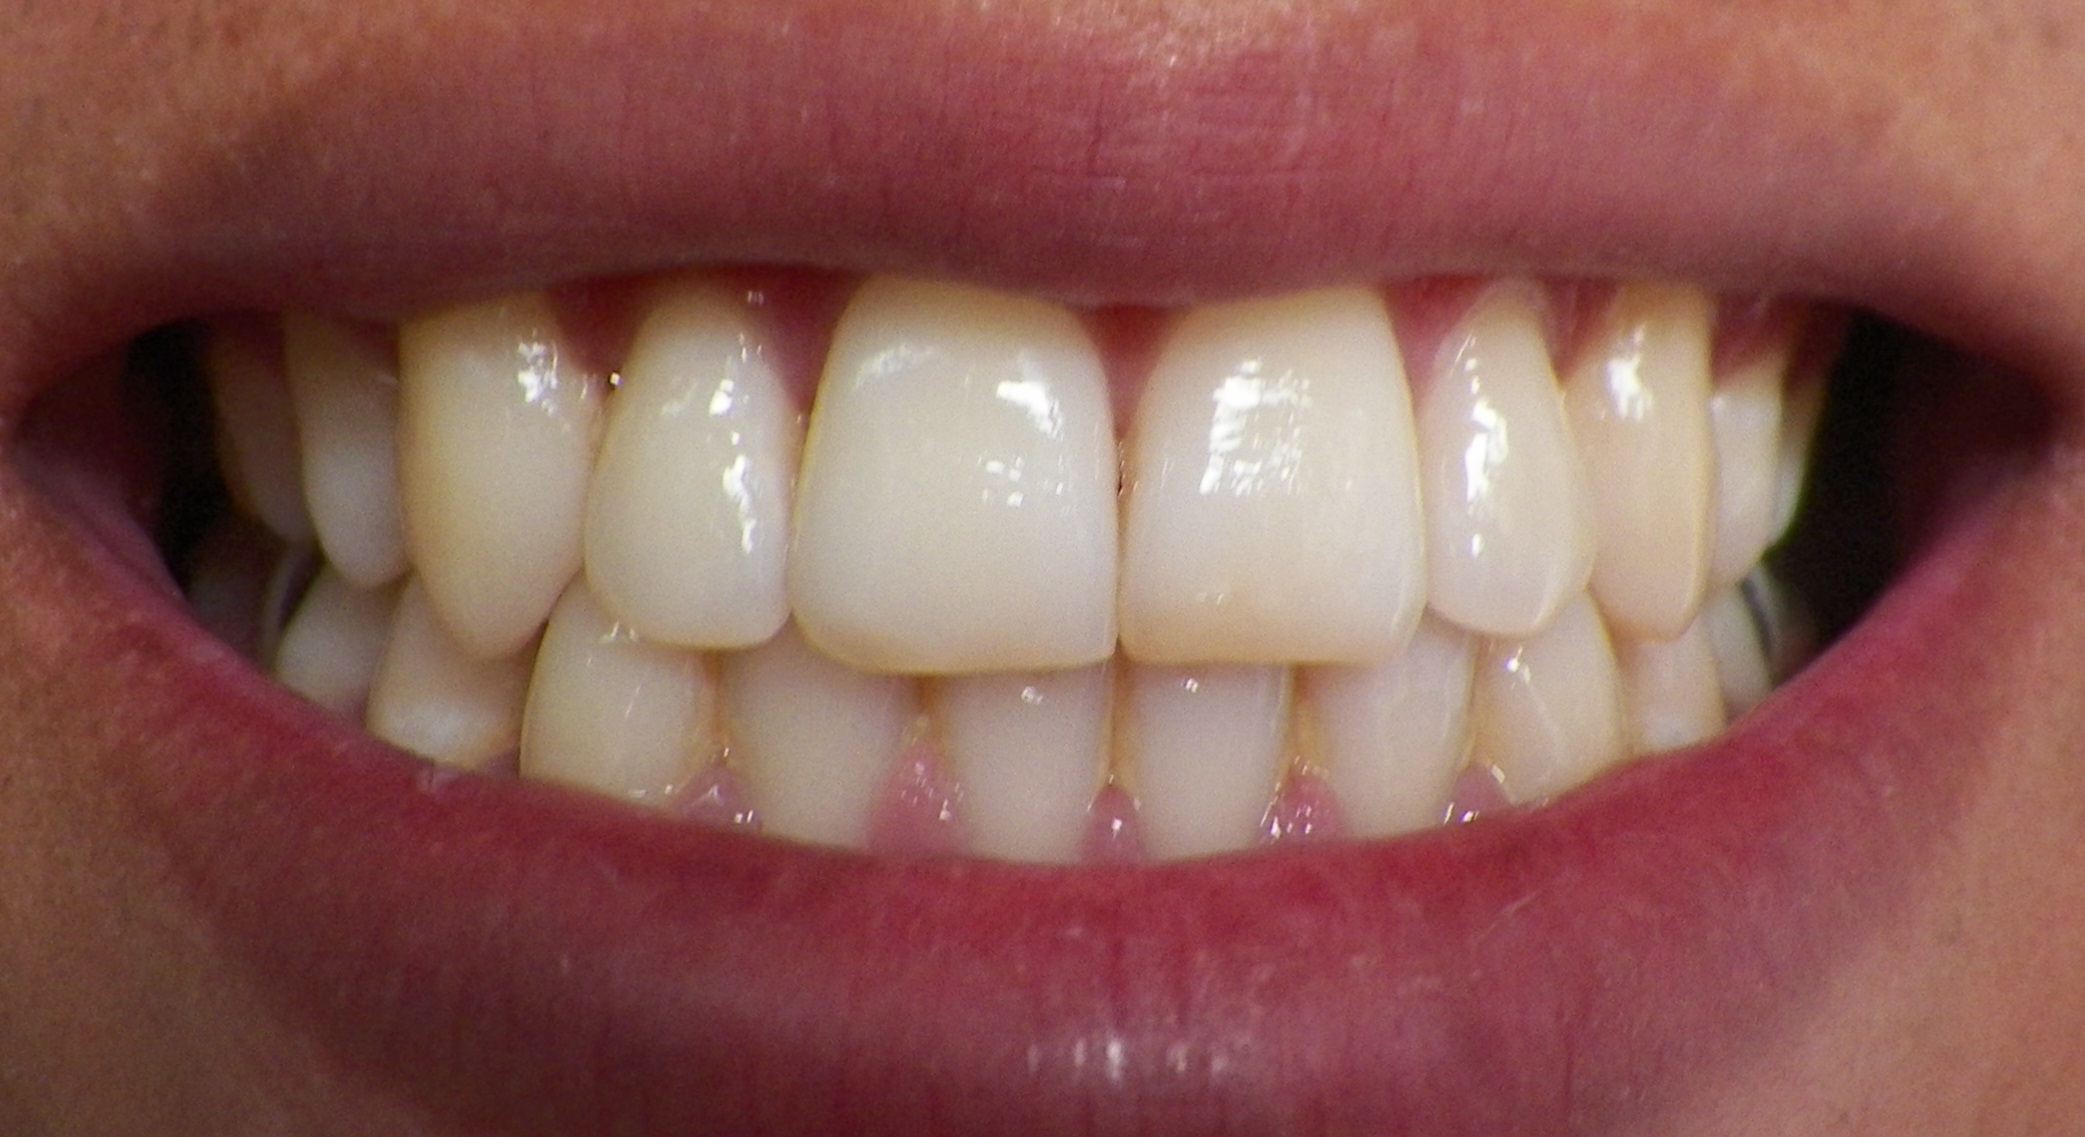boca: (181, 287, 1836, 858)
